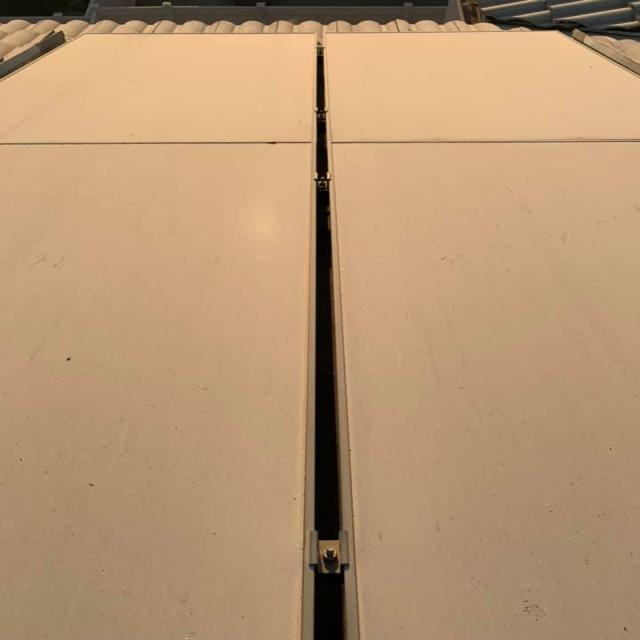Anomaly Solar Panel: (2, 139, 315, 640), (327, 142, 639, 638), (2, 30, 322, 143), (324, 30, 638, 141)
Surface Contaminant: (325, 138, 639, 639), (0, 142, 315, 639), (321, 29, 639, 147), (1, 31, 318, 143)
